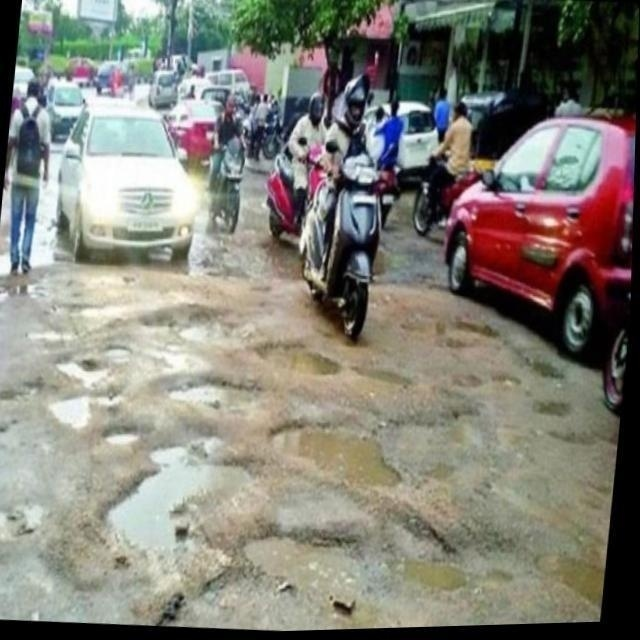pothole: (96, 442, 248, 566), (268, 419, 400, 492), (246, 529, 382, 599), (255, 326, 336, 384), (162, 304, 241, 354), (162, 376, 253, 418), (436, 313, 508, 362), (48, 386, 108, 434)
